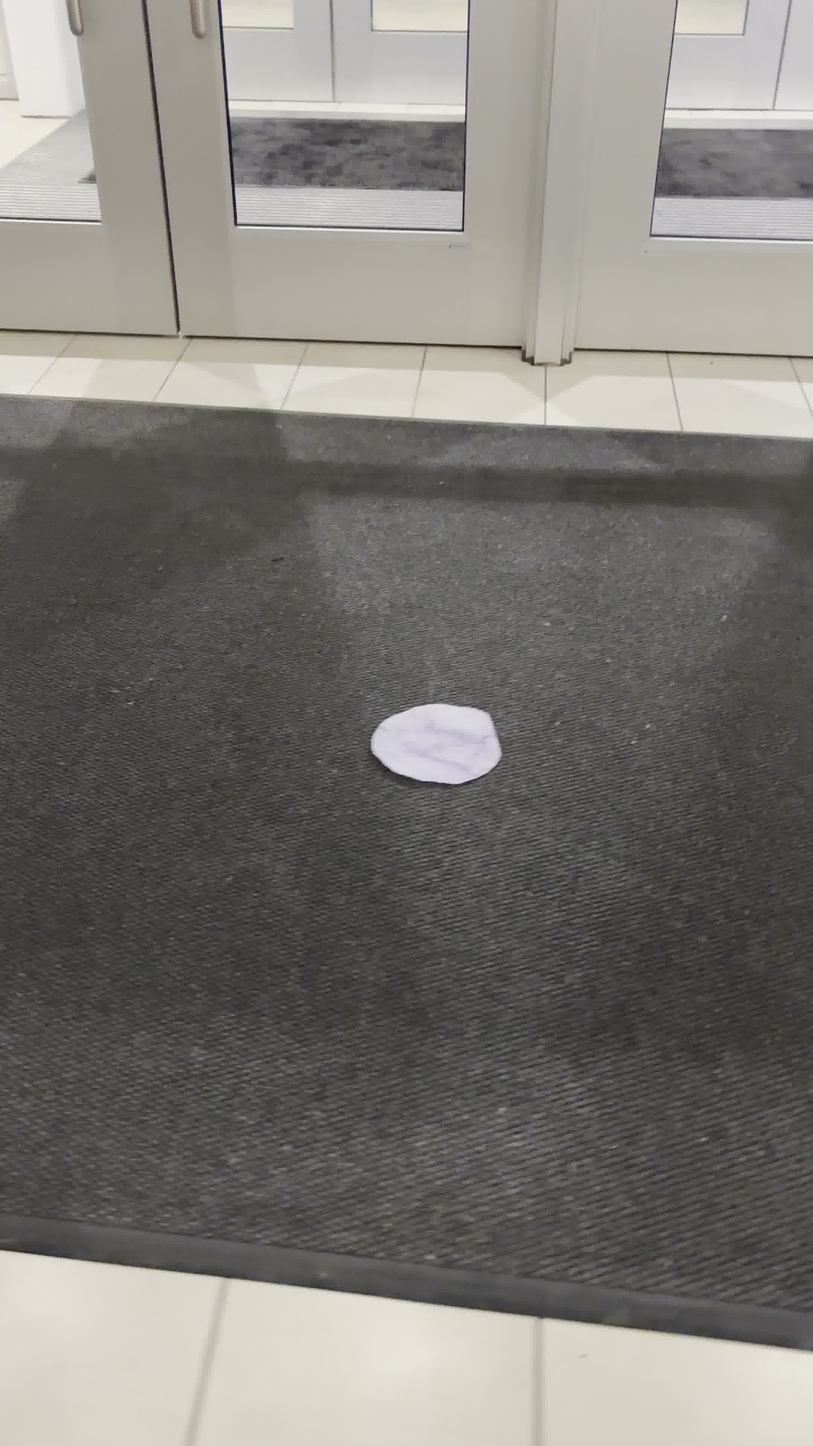Target: (370, 703, 502, 785)
